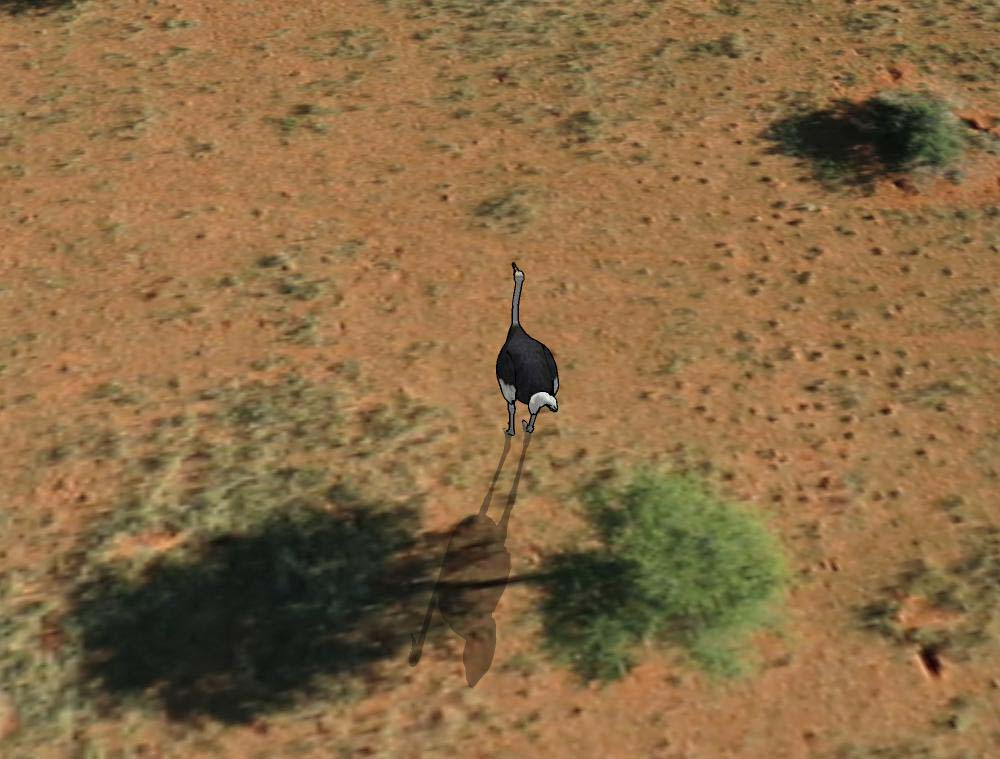springbok: (481, 256, 574, 441)
